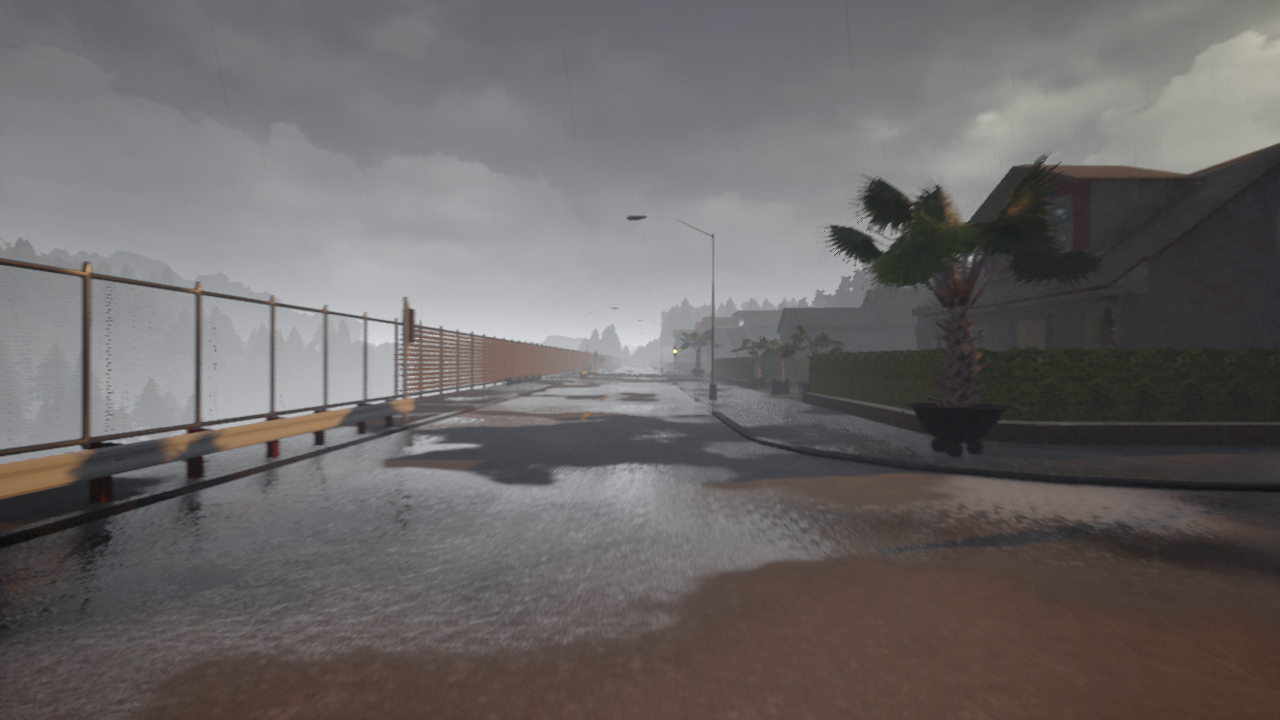yellow: (671, 346, 678, 358)
